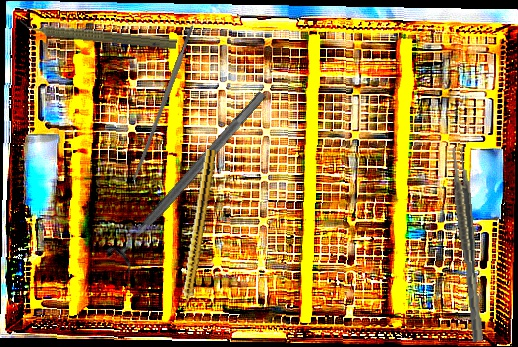Fixation Ring: (102, 82, 277, 276)
Handpiece: (176, 148, 217, 316), (18, 16, 178, 53)
Scalpel Handle: (130, 24, 197, 183)
Tissue Forceps: (449, 146, 484, 343)
